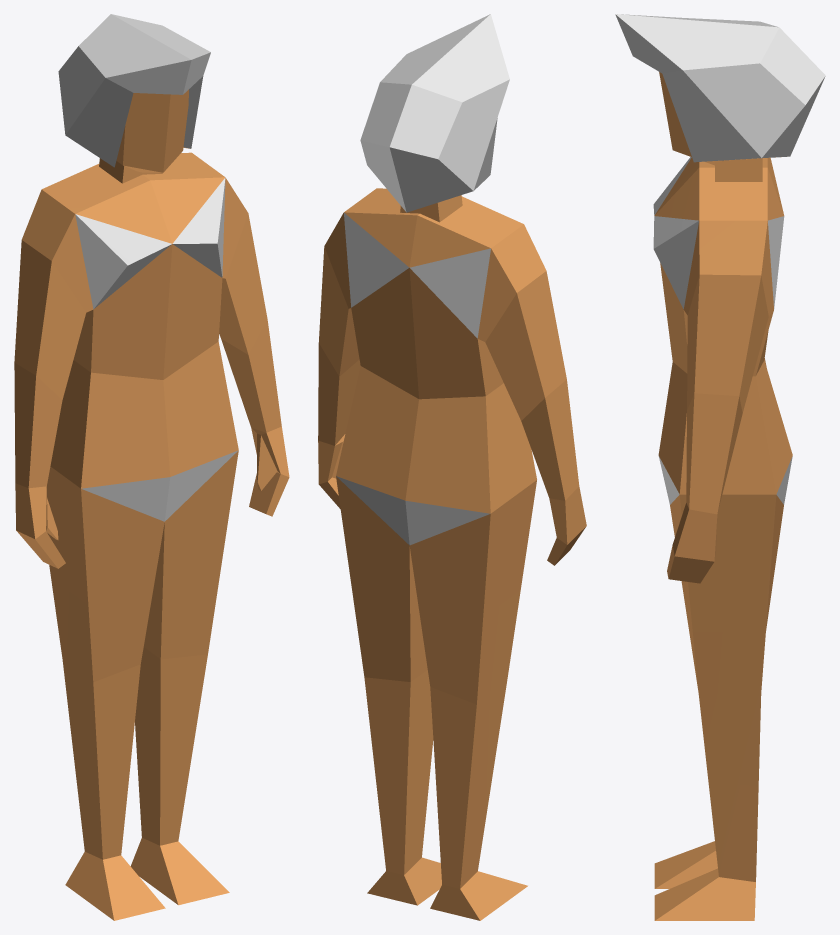
File: Hawa.fbx
3 views of the same model, side by side, from view 1: azimuth 30°, elevation 25°; view 2: azimuth 150°, elevation 25°; view 3: azimuth 270°, elevation 25° (orthographic). The views are drawn at different scales.
Visible parts, largest first — view 1: woman-swimming.001; view 2: woman-swimming.001; view 3: woman-swimming.001.
Part boxes in pixels (x1,y1,x2,y2): woman-swimming.001: [14, 14, 289, 920]; woman-swimming.001: [318, 14, 586, 920]; woman-swimming.001: [615, 14, 825, 920].
Size of the model in its own units: 52.19 by 169 by 36.72.
